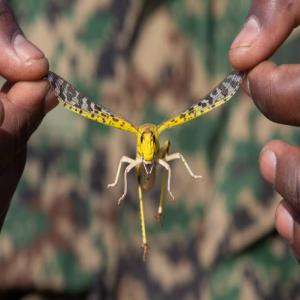locust: (53, 64, 249, 216)
